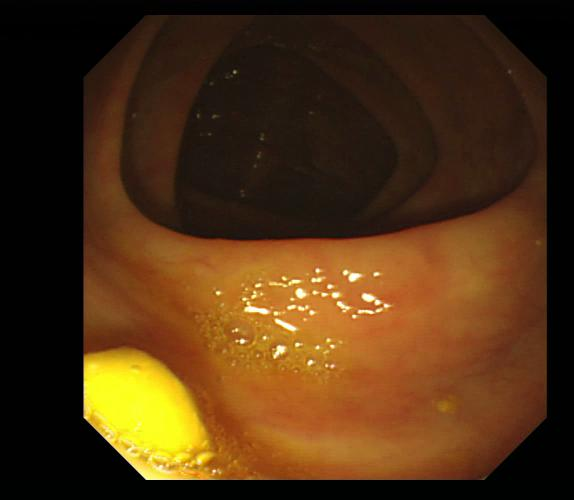polyp: (82, 344, 218, 478)
